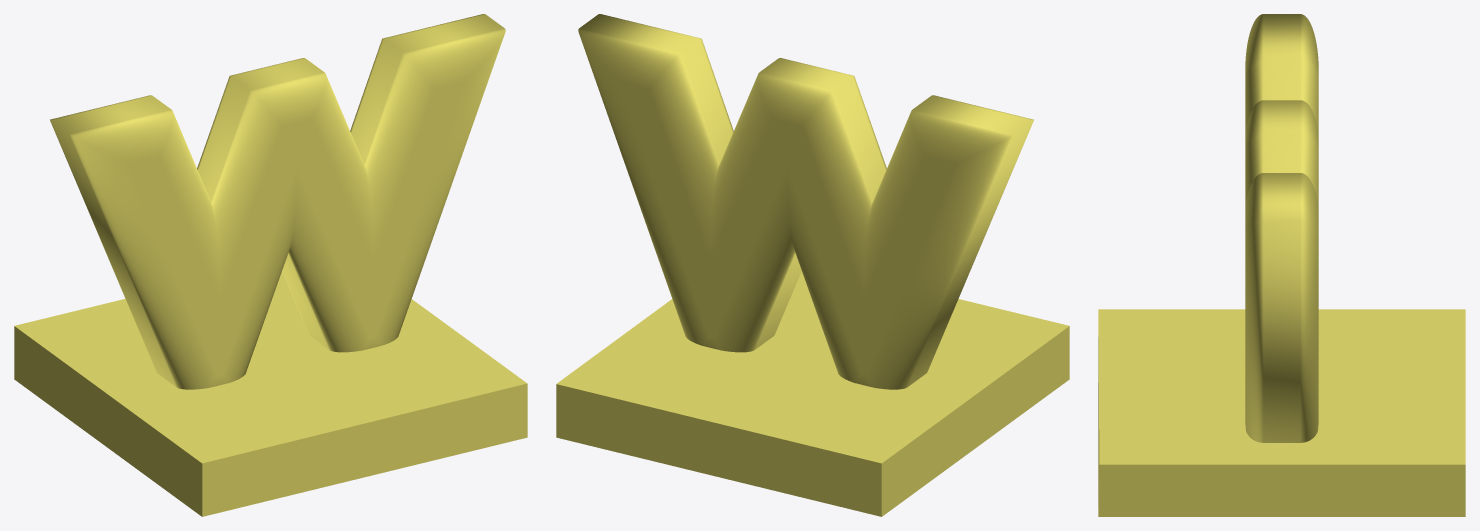
The model's file is smalldub.glb.
3 views of the same model, side by side, from view 1: azimuth 30°, elevation 25°; view 2: azimuth 150°, elevation 25°; view 3: azimuth 270°, elevation 25° (orthographic). The views are drawn at different scales.
Visible parts, largest first — view 1: W, Cube; view 2: W, Cube; view 3: Cube, W.
Part boxes in pixels (x1,y1,x2,y2): W: (50, 14, 505, 389); Cube: (14, 271, 527, 516); W: (578, 14, 1033, 389); Cube: (556, 271, 1069, 516); Cube: (1098, 309, 1465, 516); W: (1245, 14, 1318, 442).
Size of the model in its own units: 0.2674 by 0.1951 by 0.2.
